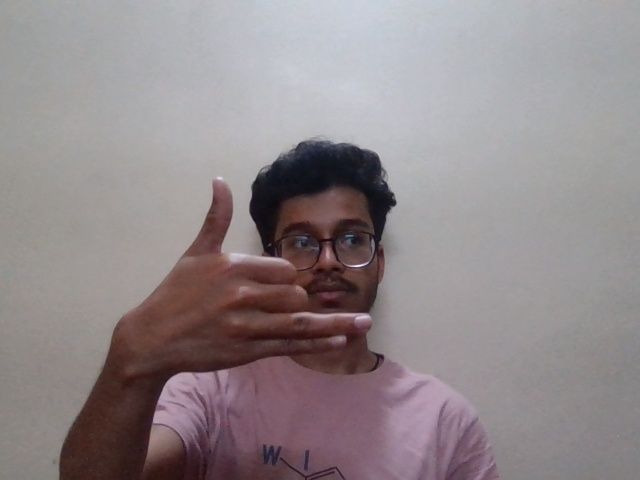project: (111, 169, 378, 393)
